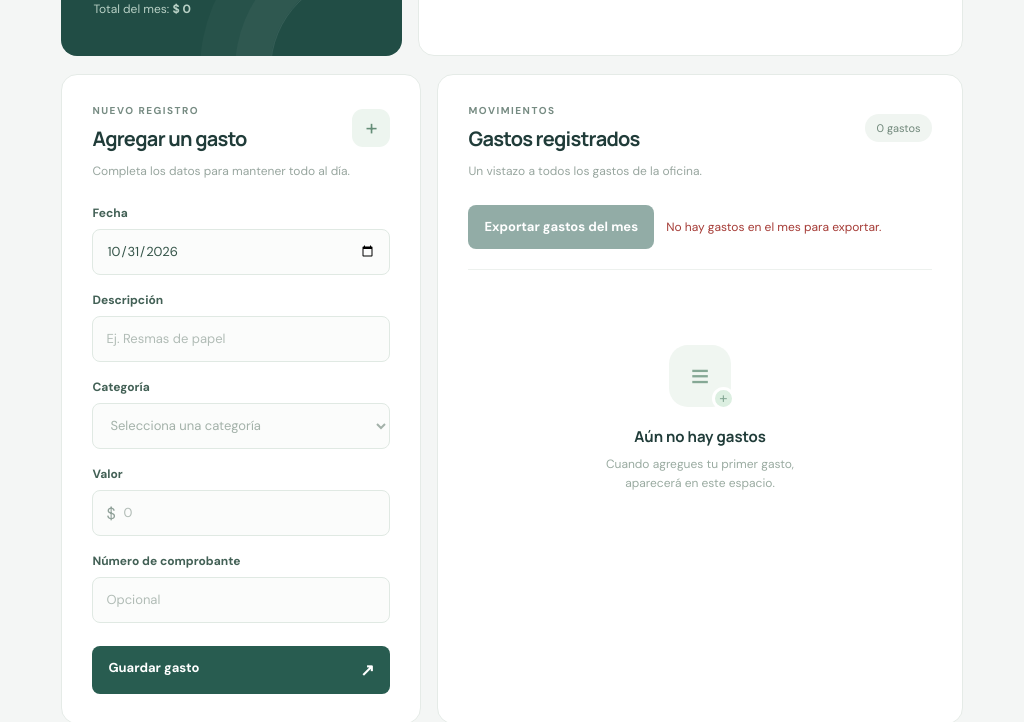
Test: guarda el número de comprobante opcional y lo muestra en la lista
The image size is (1024, 722).
(page scrolled)
Type "Resmas de papel" into the field labelled "Descripción" at (241, 339), box [92,316,390,362]
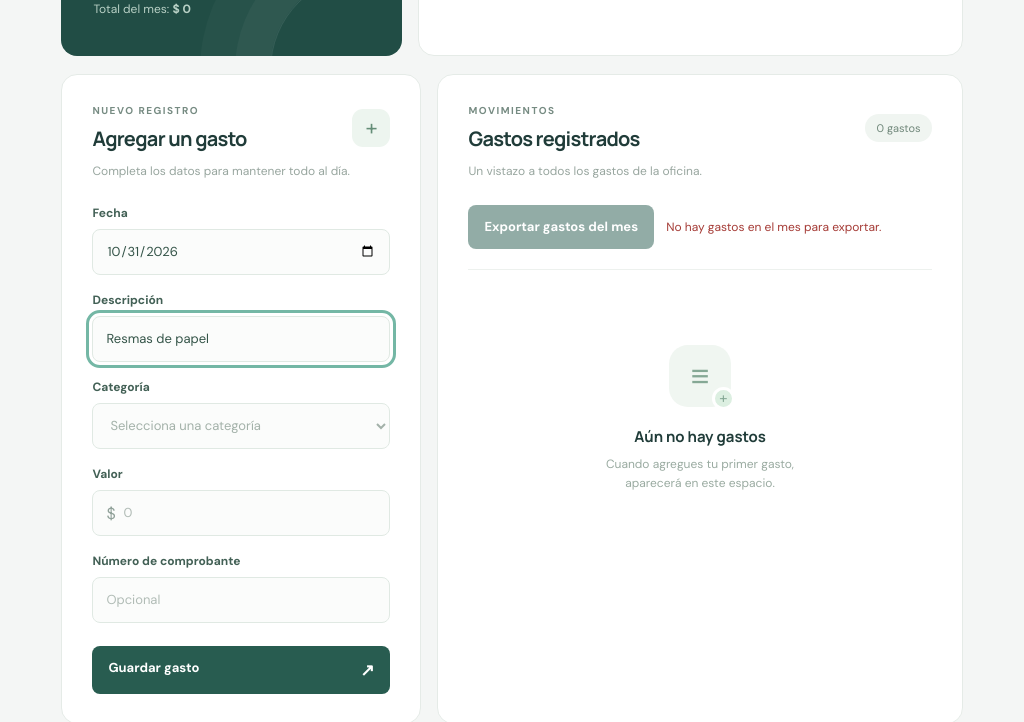
Select "Banco" in the dropdown labelled "Categoría" at (241, 426), box [92,403,390,449]
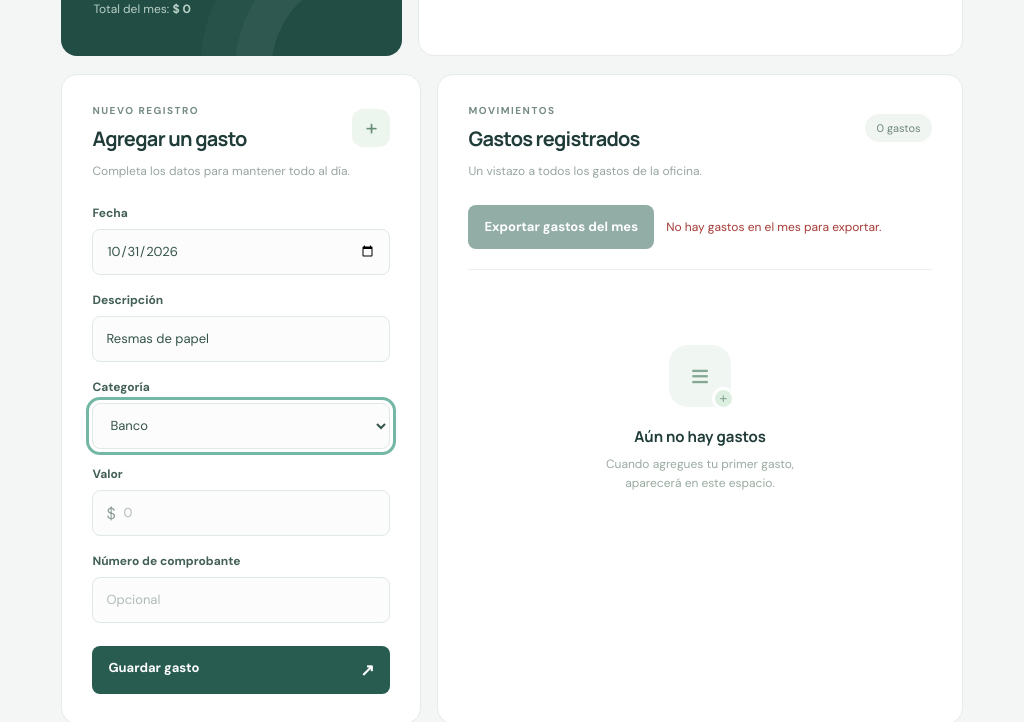
Type "25000" into the number field labelled "Valor" at (241, 513), box [92,490,390,536]
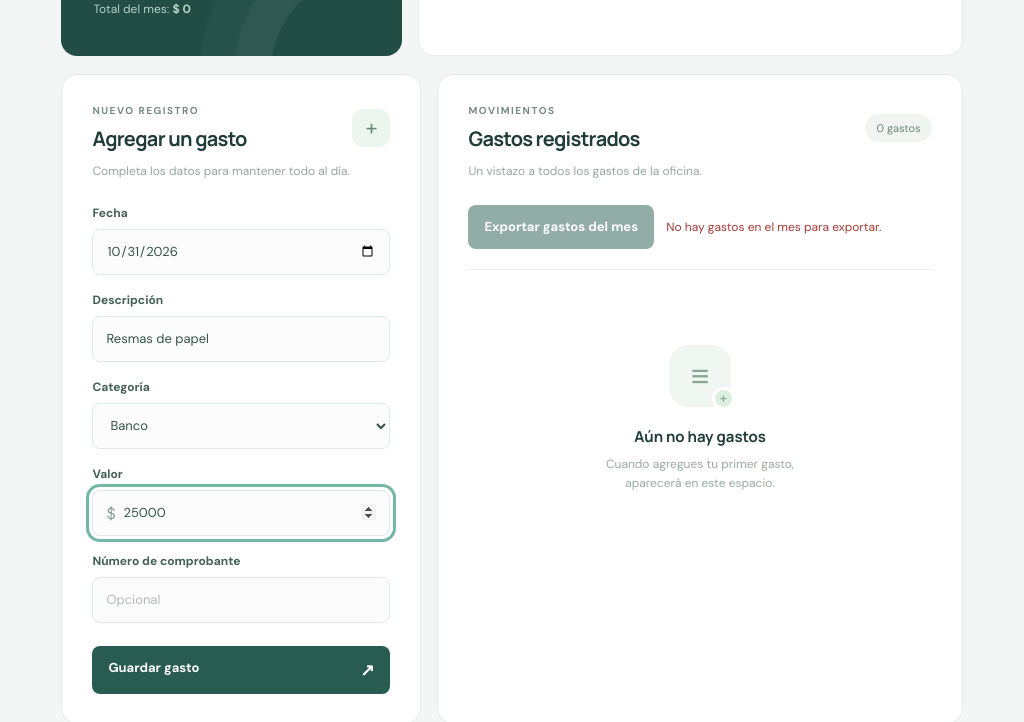
Type "F-123" into the field labelled "Número de comprobante" at (241, 600), box [92,577,390,623]
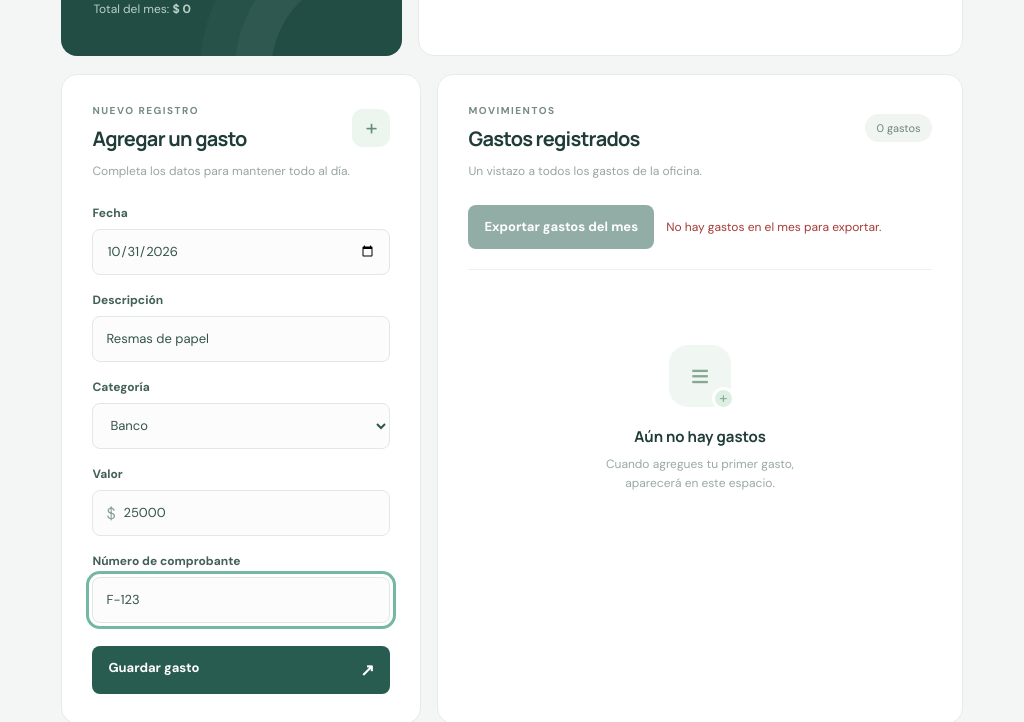
Click the button "Guardar gasto ↗" at (154, 667), box [92,646,390,694]
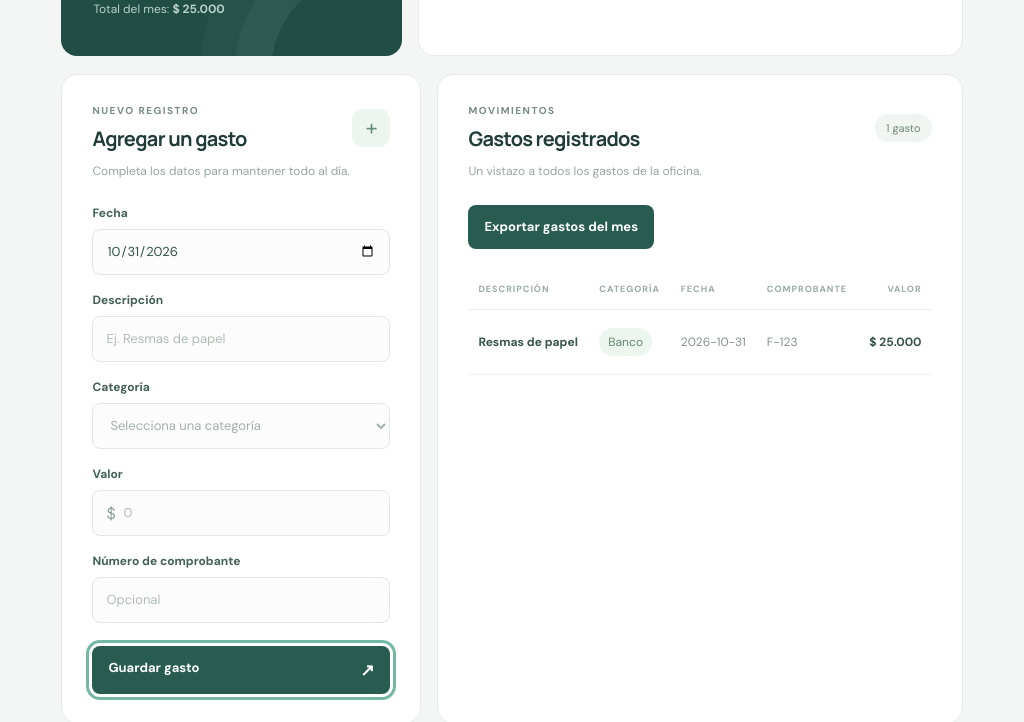
Check: the text "F-123" is shown, box [757,309,858,374]
